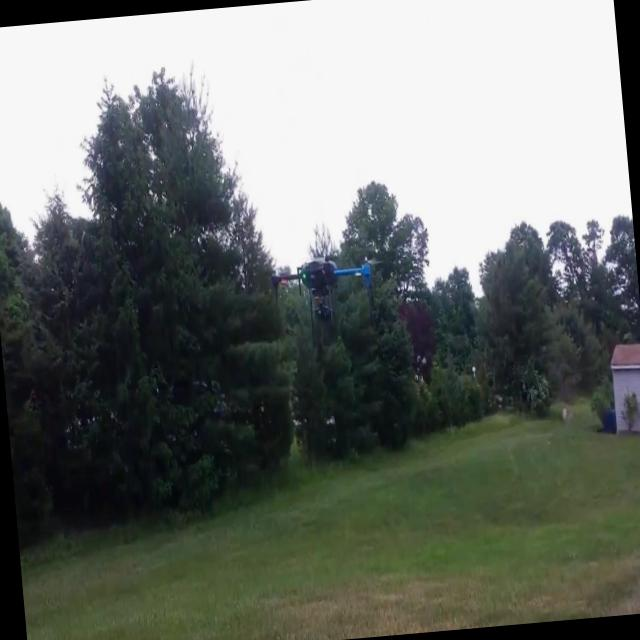drone: (264, 240, 385, 338)
